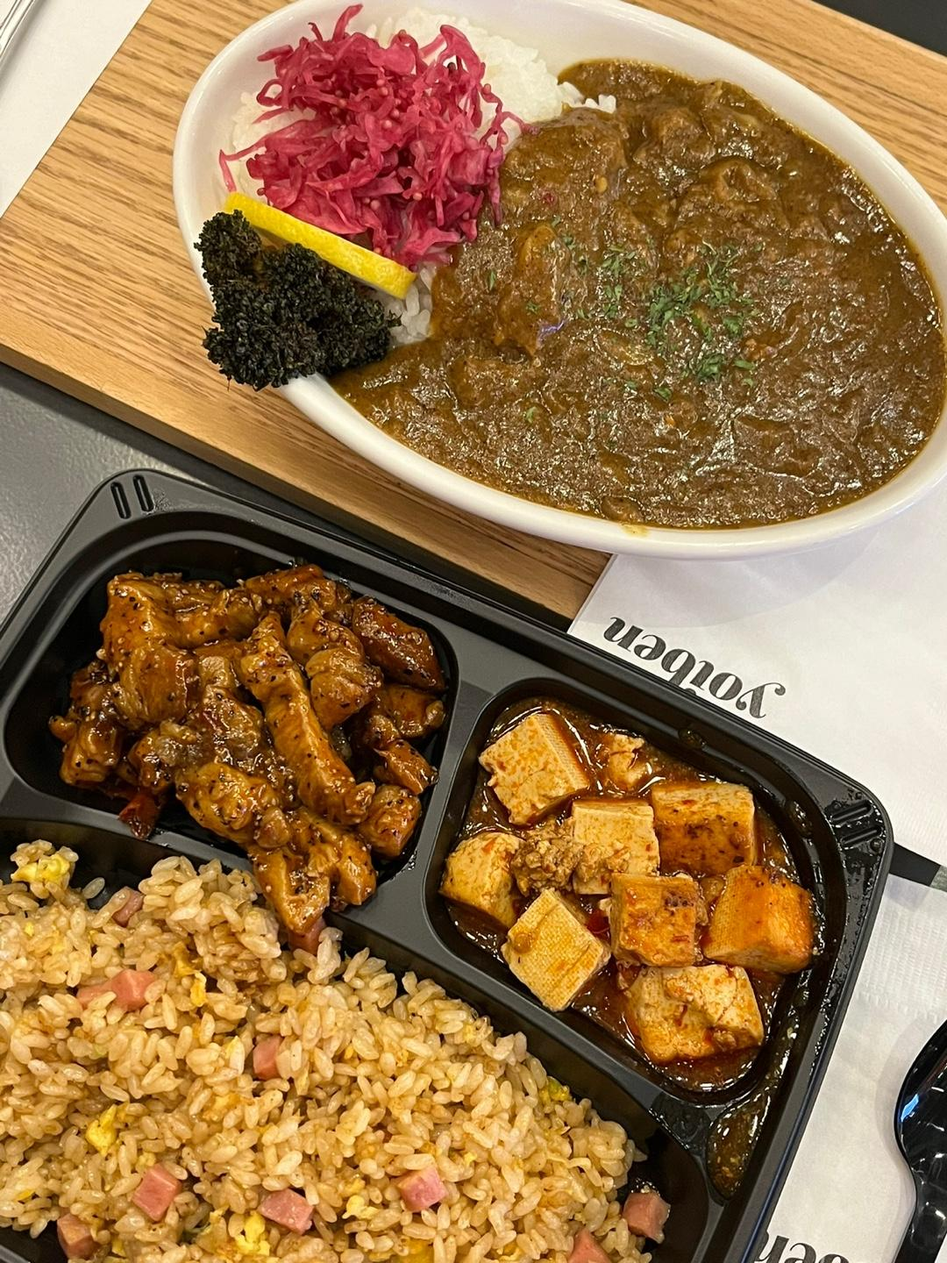Lunch Box: (0, 472, 891, 1262), (173, 0, 946, 559)
